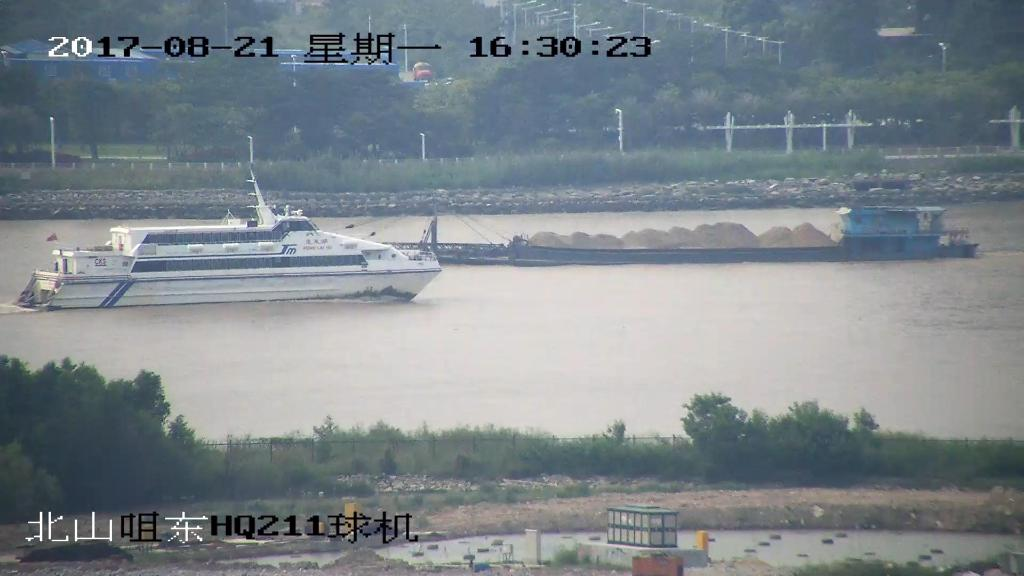PassengerShip: (8, 174, 452, 314)
